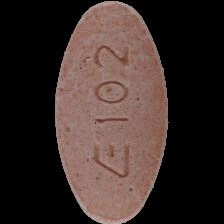67296-0630: (0, 0, 224, 224)
